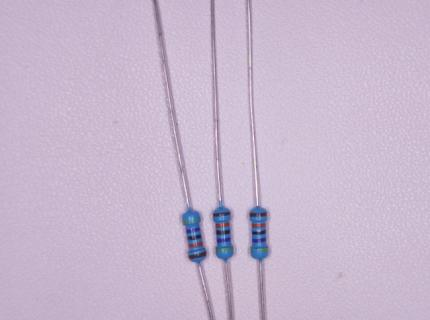Black band: (187, 234, 202, 241), (216, 230, 231, 236), (252, 230, 266, 235)
Brown band: (188, 252, 207, 260), (213, 211, 231, 217), (250, 212, 267, 217)
Orange band: (189, 242, 203, 249), (215, 223, 230, 228), (251, 223, 266, 228)
Violet band: (186, 227, 200, 234), (217, 237, 231, 243), (252, 238, 266, 243)
Yellow band: (183, 218, 201, 225), (216, 247, 234, 252), (251, 248, 268, 252)
